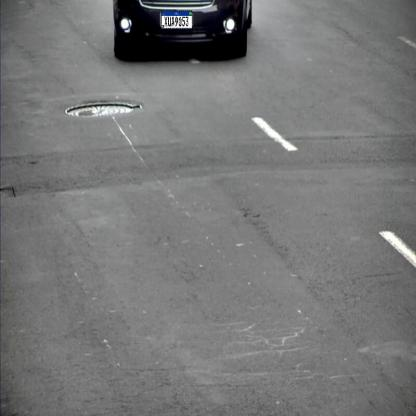PlacaM: (162, 11, 192, 29)
